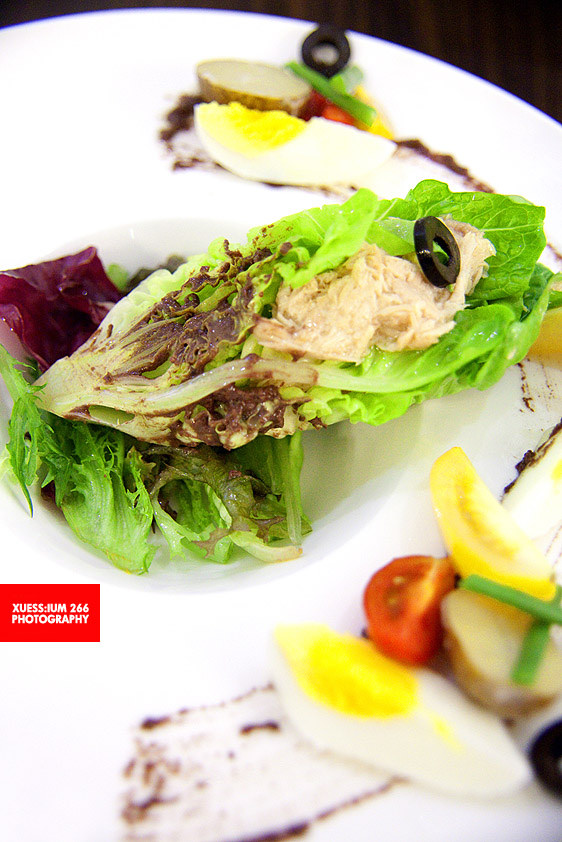chopped lettuce: (29, 245, 338, 564)
